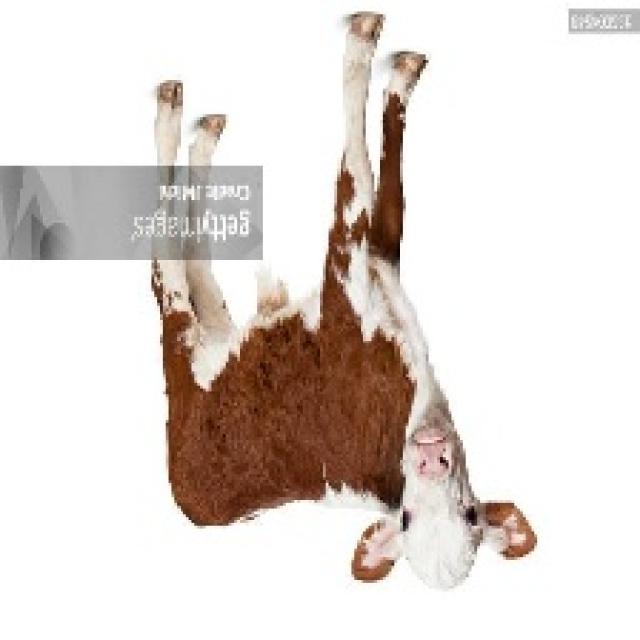animal: (100, 37, 585, 611)
